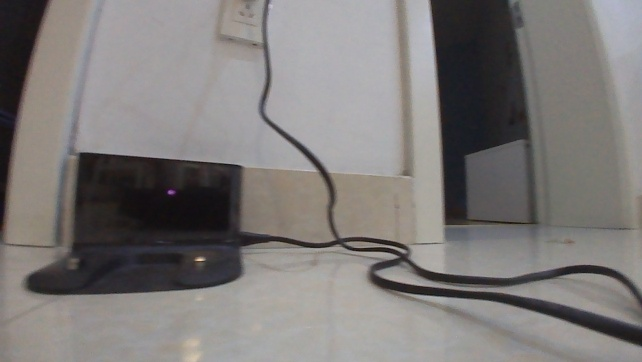charger: (20, 148, 250, 300)
wire: (234, 0, 641, 348)
